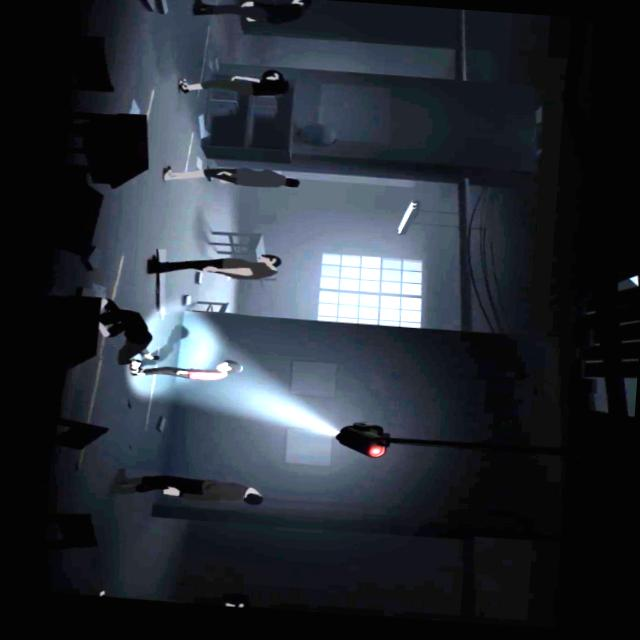boy: (128, 352, 243, 382)
zombie: (110, 470, 264, 504), (92, 297, 156, 373), (150, 245, 280, 282), (178, 64, 286, 100), (160, 162, 298, 190), (95, 584, 246, 608), (190, 0, 310, 26)
